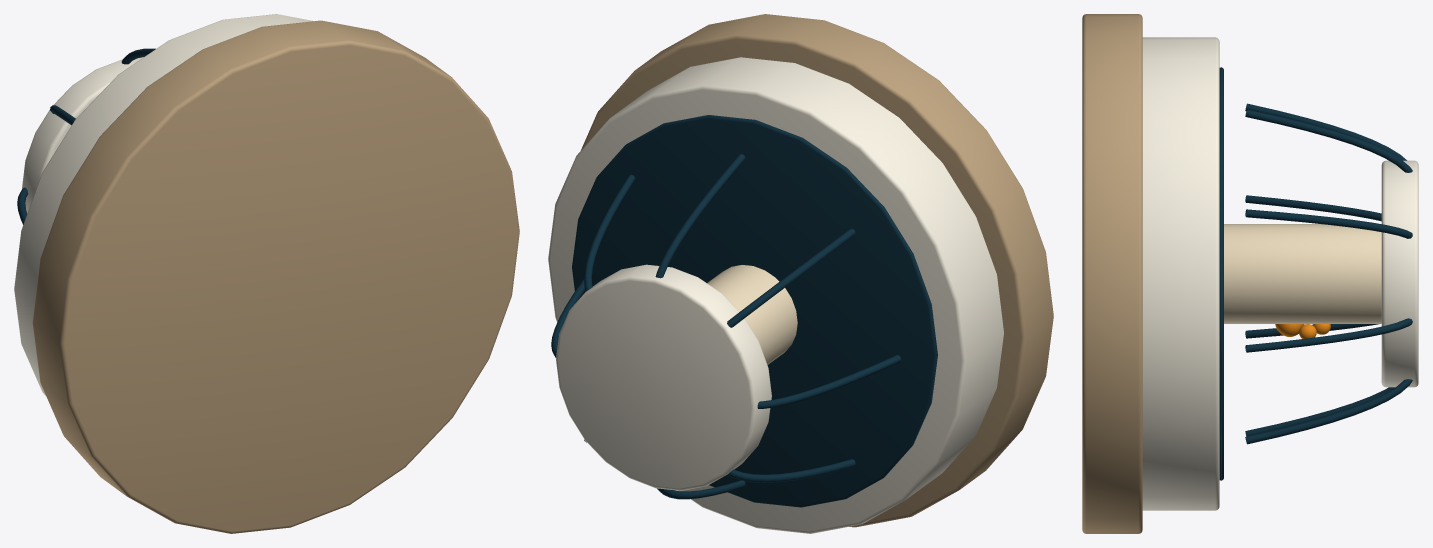
The model's file is BoulevardLandmark7.fbx.
3 views of the same model, side by side, from view 1: azimuth 30°, elevation 25°; view 2: azimuth 150°, elevation 25°; view 3: azimuth 270°, elevation 25° (orthographic).
Visible parts, largest first — view 1: BoulevardLandmark7; view 2: BoulevardLandmark7; view 3: BoulevardLandmark7.
Part boxes in pixels (x1,y1,x2,y2): BoulevardLandmark7: (14, 14, 519, 533); BoulevardLandmark7: (548, 14, 1053, 533); BoulevardLandmark7: (1082, 14, 1418, 533).
Size of the model in its own units: 1.56 by 1.56 by 1.01.
